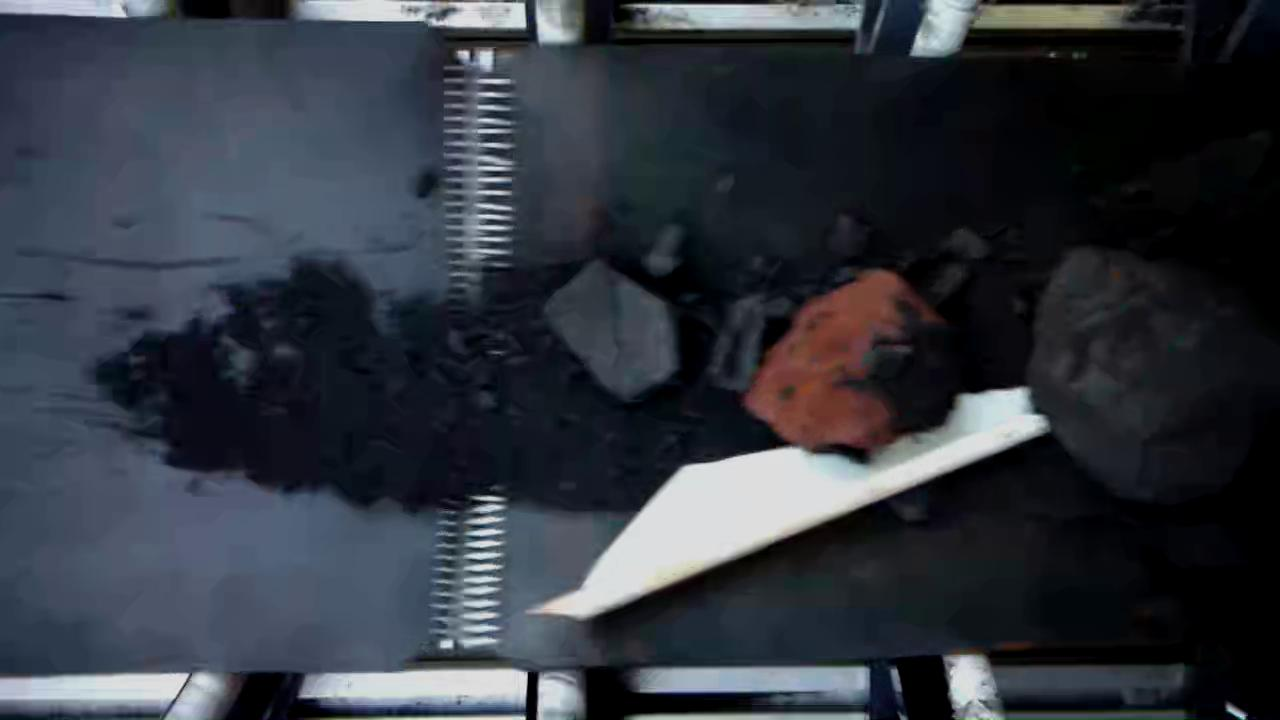conveyor: (3, 59, 1280, 648)
